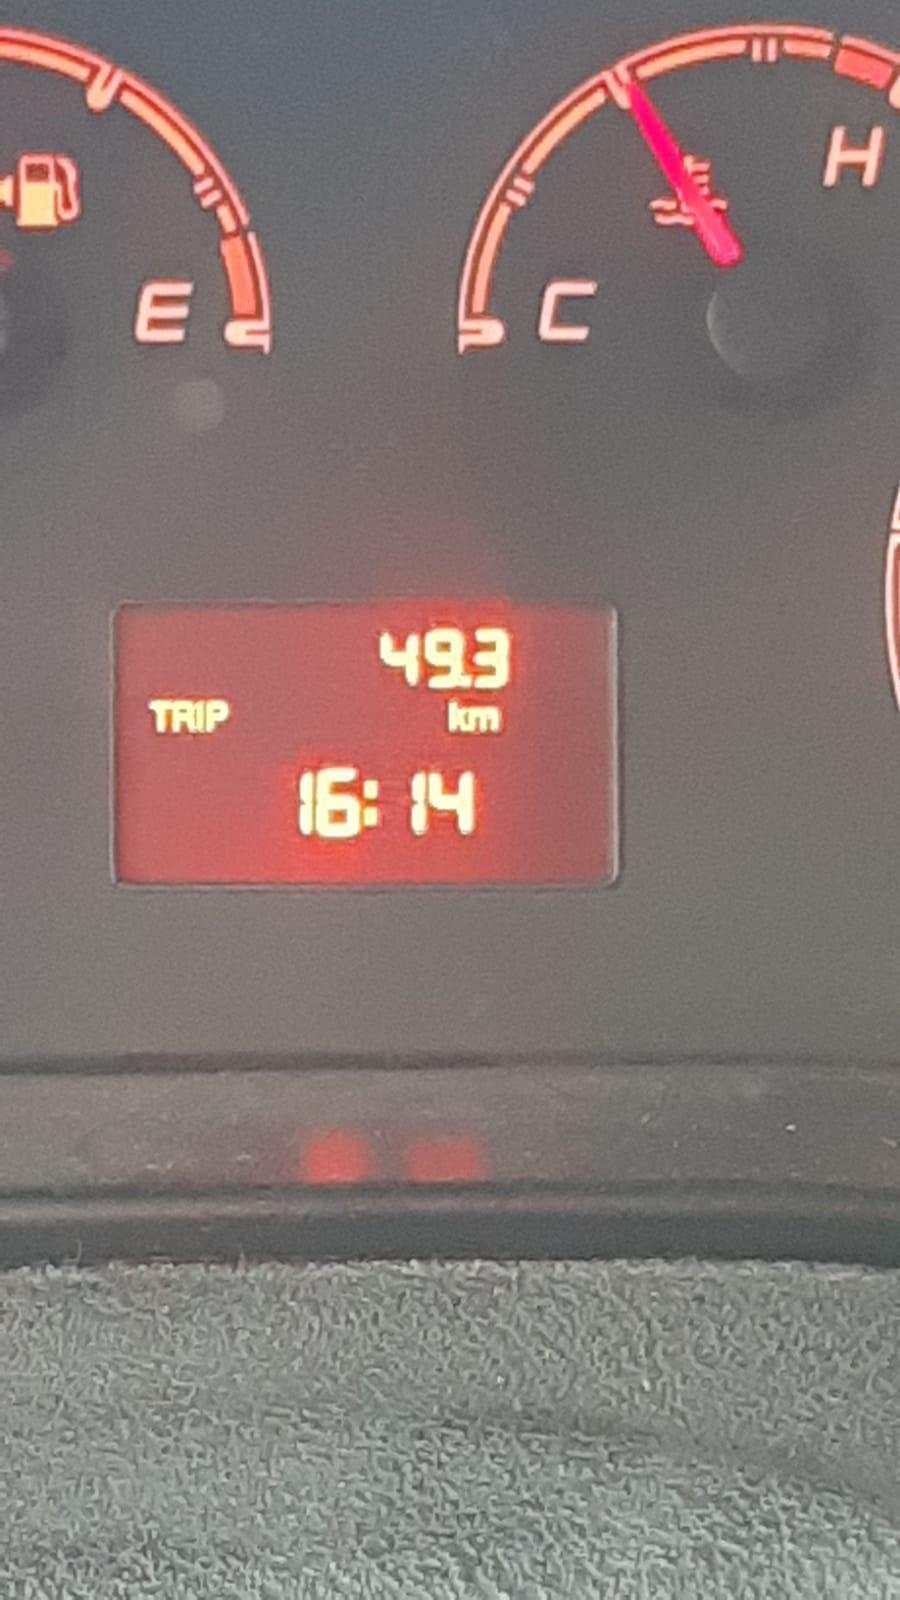,: (458, 673, 471, 689)
1: (295, 770, 315, 837), (409, 769, 429, 838)
3: (473, 626, 510, 690)
4: (426, 770, 479, 836), (377, 629, 422, 687)
6: (315, 766, 362, 838)
9: (422, 627, 464, 690)
X: (144, 697, 171, 733), (205, 697, 231, 735), (362, 779, 380, 827), (469, 705, 501, 733), (171, 698, 195, 735), (446, 700, 468, 732), (193, 698, 205, 735)
odometer: (101, 591, 629, 899)
